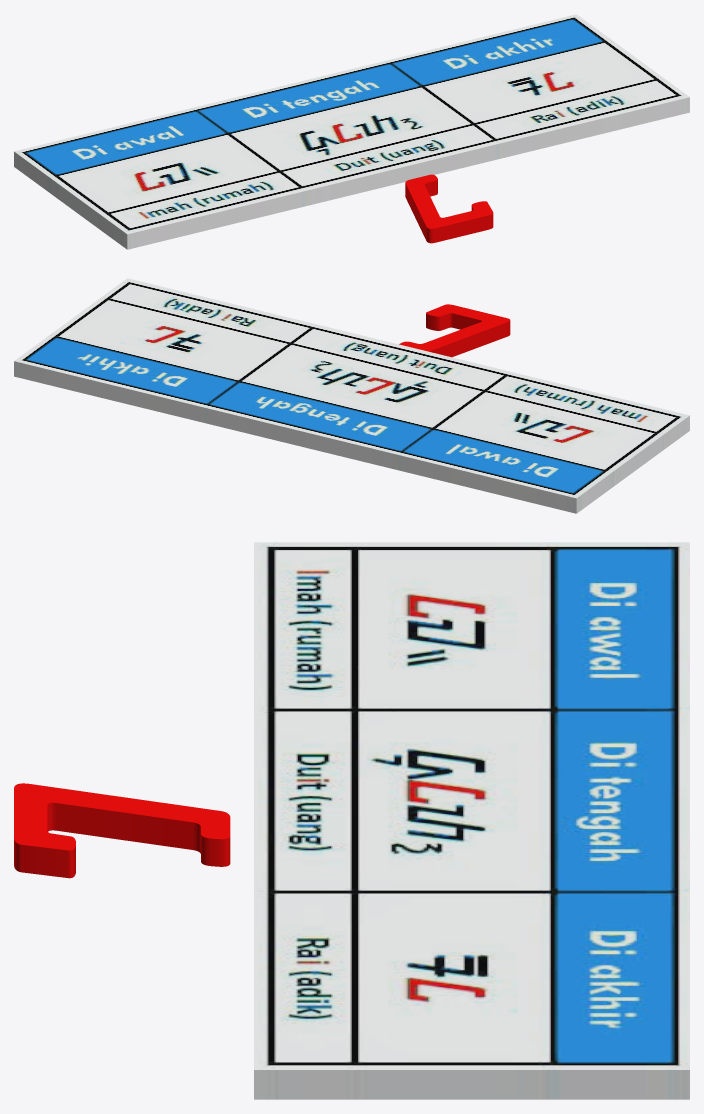
3 views of the same model, one above another, from view 1: azimuth 30°, elevation 25°; view 2: azimuth 150°, elevation 25°; view 3: azimuth 270°, elevation 25° (orthographic). The views are drawn at different scales.
Parts seen in each view (by area): view 1: contoh-bunyi-huruf-i-Swara-vokal-mandiri, Text; view 2: contoh-bunyi-huruf-i-Swara-vokal-mandiri, Text; view 3: contoh-bunyi-huruf-i-Swara-vokal-mandiri, Text.
Boxes of the visible parts, left/top/right/bottom form: contoh-bunyi-huruf-i-Swara-vokal-mandiri: left=14, top=14, right=689, bottom=249; Text: left=405, top=174, right=493, bottom=243; contoh-bunyi-huruf-i-Swara-vokal-mandiri: left=14, top=278, right=689, bottom=513; Text: left=399, top=304, right=510, bottom=357; contoh-bunyi-huruf-i-Swara-vokal-mandiri: left=254, top=542, right=689, bottom=1099; Text: left=14, top=783, right=230, bottom=878.
Size of the model in its own units: 2.86 by 0.11 by 1.55.
Materials: 2 (1 with a texture image).
